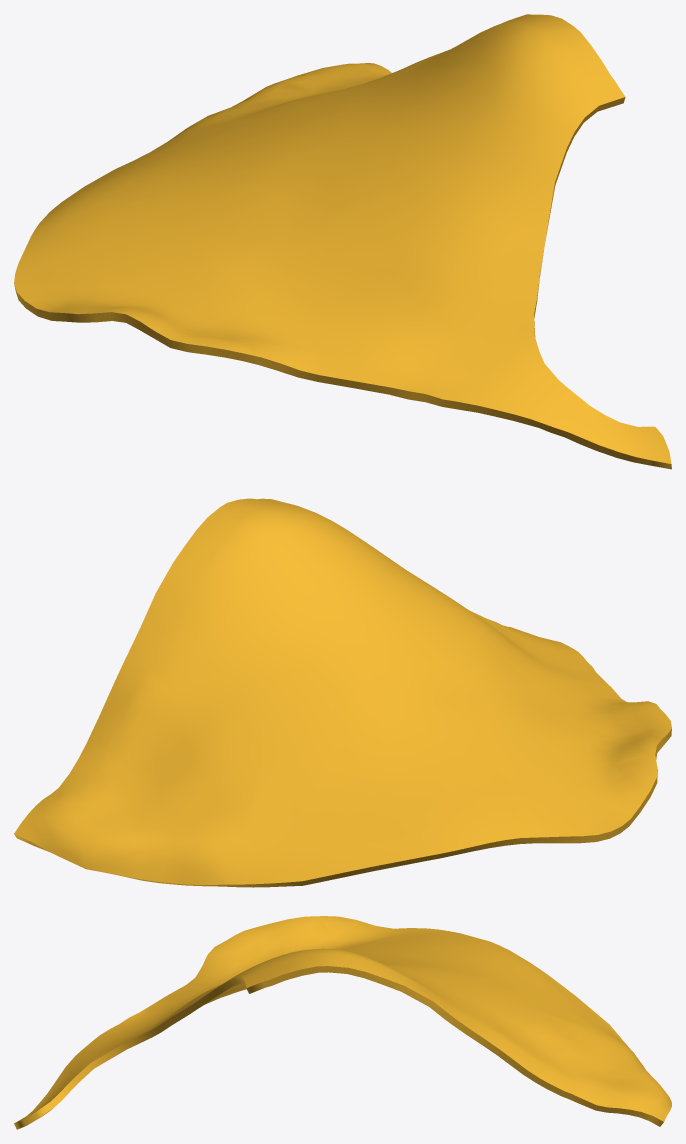
File: nervoso-tentorium-cerebelli-r.glb
3 renders of one model, top to bottom at view 1: azimuth 30°, elevation 25°; view 2: azimuth 150°, elevation 25°; view 3: azimuth 270°, elevation 25°, orthographic. The views are drawn at different scales.
Visible parts, largest first — view 1: Tentorium cerebelli.r; view 2: Tentorium cerebelli.r; view 3: Tentorium cerebelli.r.
Boxes of the visible parts, x1=… form: Tentorium cerebelli.r: x1=14, y1=14, x2=671, y2=469; Tentorium cerebelli.r: x1=14, y1=498, x2=671, y2=887; Tentorium cerebelli.r: x1=14, y1=916, x2=671, y2=1129.
Size of the model in its own units: 0.0609 by 0.0309 by 0.0905.
